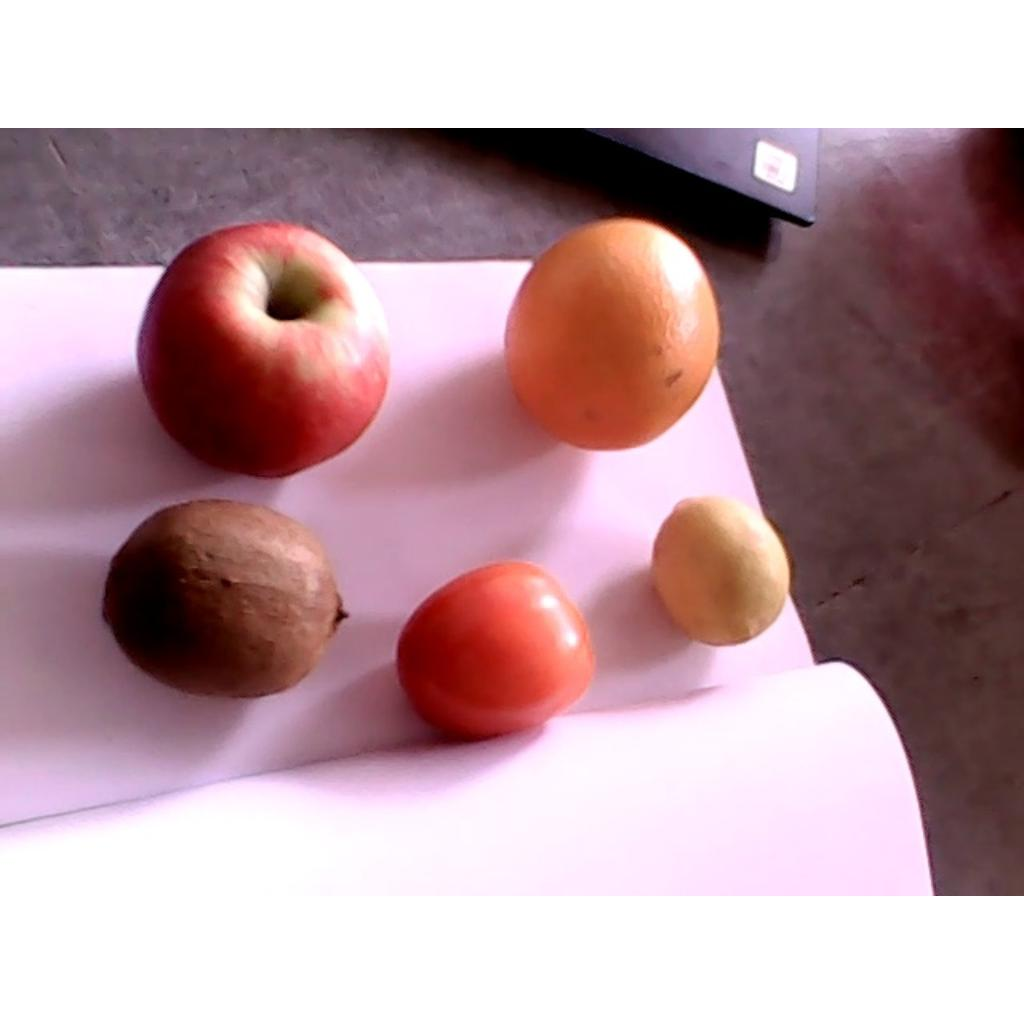apple: (139, 224, 391, 477)
kiwi: (102, 501, 351, 700)
lemon: (653, 497, 792, 648)
orange: (506, 219, 719, 451)
tomato: (397, 563, 595, 740)
